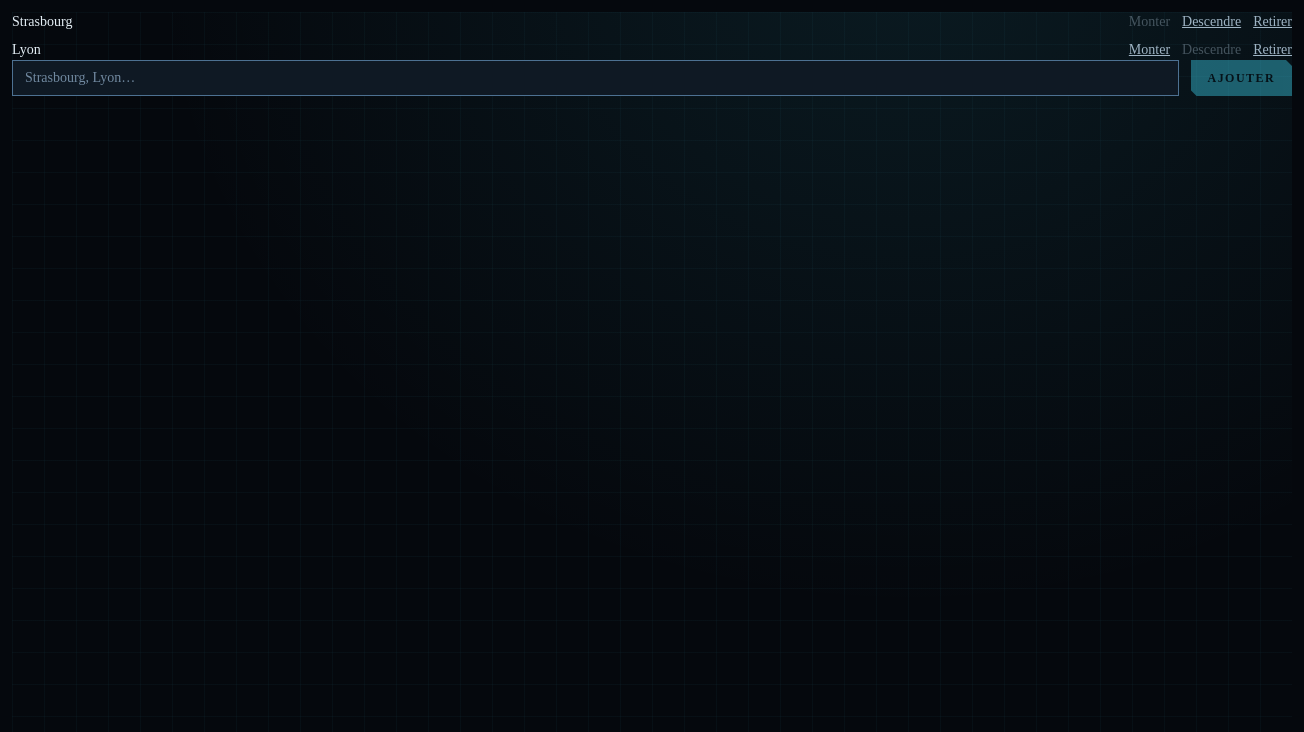
Test: WeatherForms › Retirer appelle removeCity avec (null, FormData{id}) et affiche « Ville retirée. »
Click the button "Retirer" in the row of "Lyon" at (1273, 50), box [1253,40,1292,60]
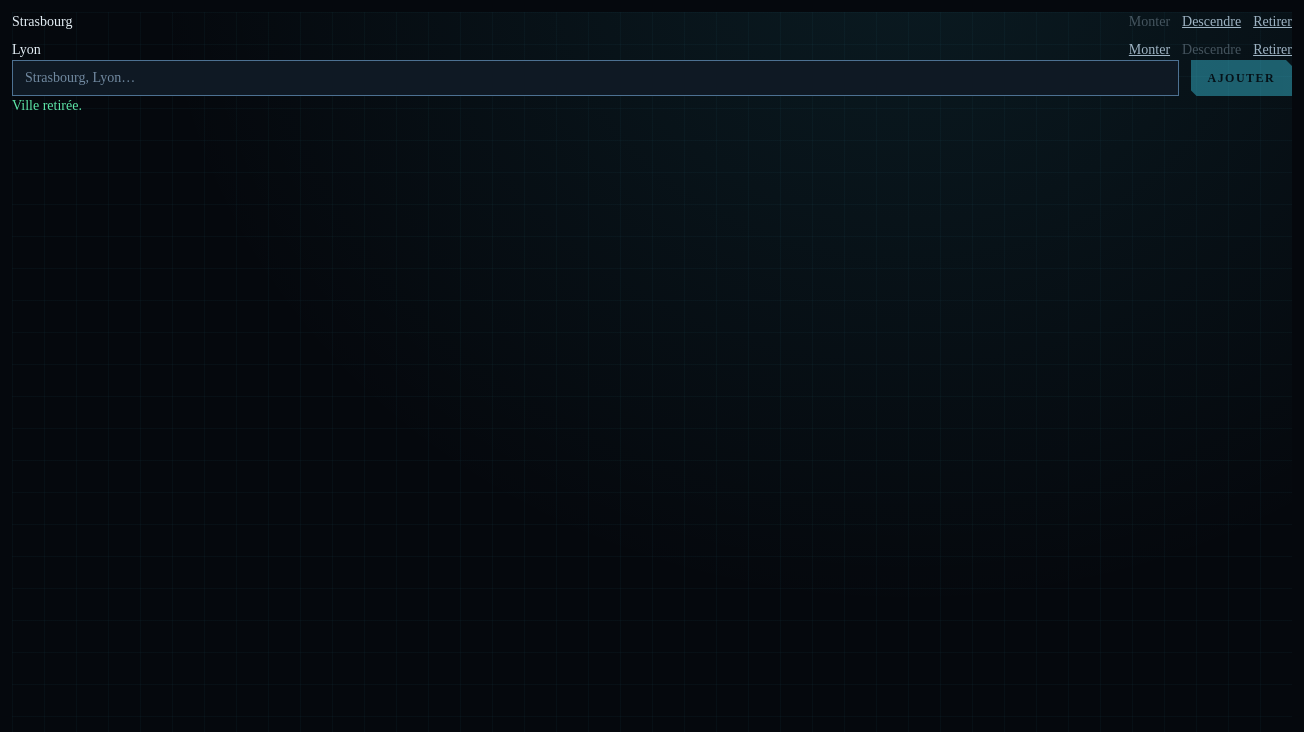
Expected: the message reads "Ville retirée.", [12,98,82,113]
